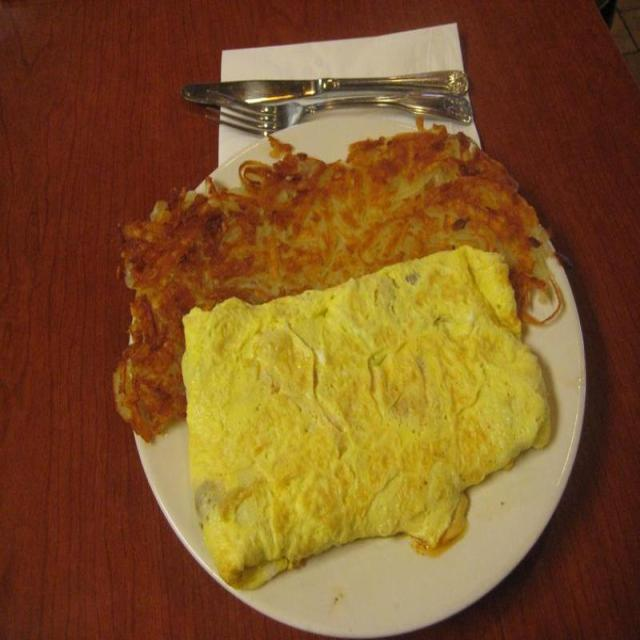Omelet: (154, 227, 582, 591)
